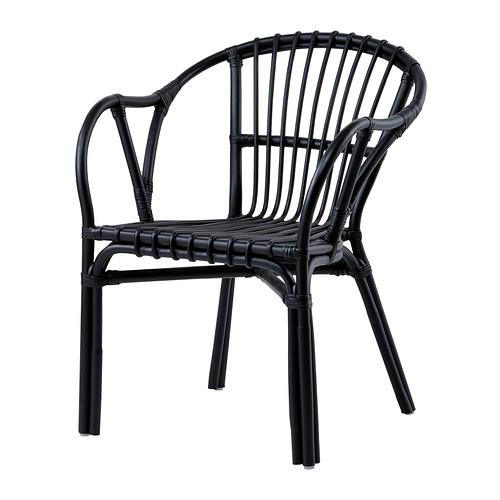chair: (71, 28, 430, 473)
